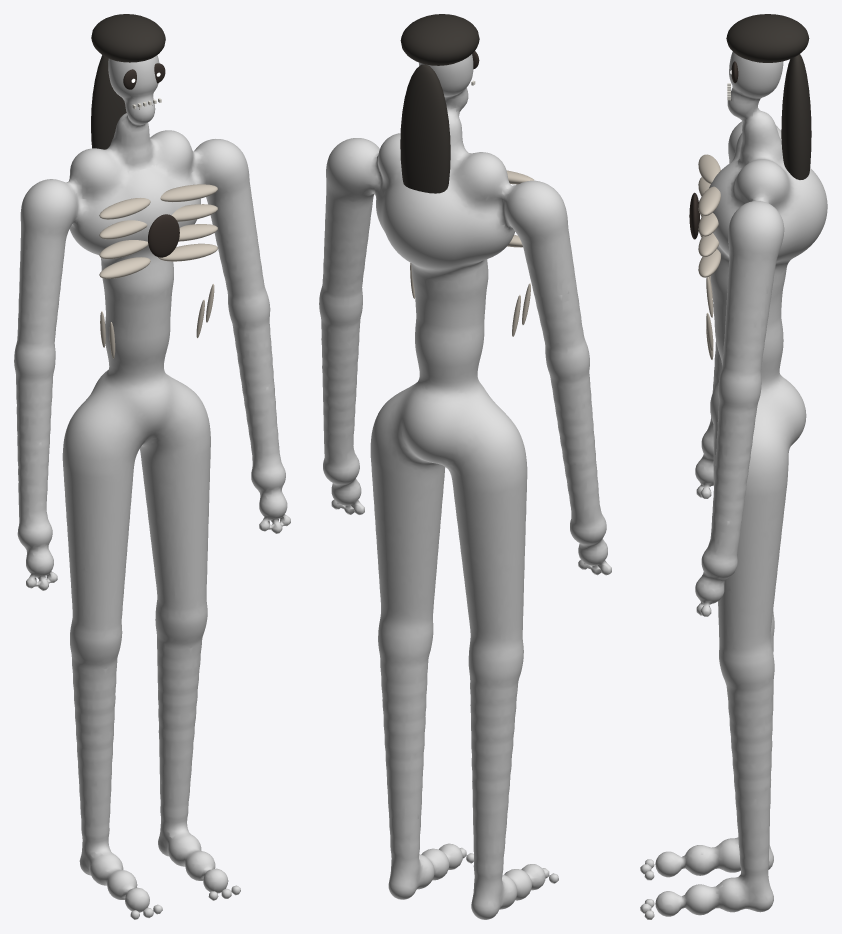
File: founding-titan.glb
3 renders of one model, left to right at view 1: azimuth 30°, elevation 25°; view 2: azimuth 150°, elevation 25°; view 3: azimuth 270°, elevation 25°, orthographic. The views are drawn at different scales.
Parts seen in each view (by area): view 1: Body.001, HairCrown, HairBack, Cavity, Rib, Rib.007, Rib.001, Rib.006, Rib.005, Rib.003, Rib.002; view 2: Body.001, HairBack, HairCrown; view 3: Body.001, HairCrown, HairBack, Rib, Rib.001, Rib.006, Cavity.
Part boxes in pixels (left/top/right/bottom): Body.001: left=14, top=55, right=290, bottom=919; HairCrown: left=91, top=14, right=165, bottom=62; HairBack: left=91, top=55, right=126, bottom=149; Cavity: left=148, top=214, right=179, bottom=257; Rib: left=160, top=184, right=217, bottom=202; Rib.007: left=99, top=257, right=150, bottom=278; Rib.001: left=99, top=198, right=150, bottom=219; Rib.006: left=158, top=243, right=217, bottom=261; Rib.005: left=99, top=240, right=148, bottom=259; Rib.003: left=99, top=220, right=147, bottom=239; Rib.002: left=171, top=204, right=217, bottom=221; Body.001: left=319, top=54, right=611, bottom=919; HairBack: left=400, top=64, right=450, bottom=193; HairCrown: left=400, top=14, right=479, bottom=65; Body.001: left=640, top=51, right=827, bottom=919; HairCrown: left=726, top=14, right=809, bottom=62; HairBack: left=781, top=54, right=811, bottom=179; Rib: left=698, top=186, right=720, bottom=216; Rib.001: left=698, top=154, right=720, bottom=183; Rib.006: left=698, top=249, right=720, bottom=277; Cavity: left=689, top=192, right=699, bottom=239.
Size of the model in its own units: 4.18 by 12.83 by 2.48.
